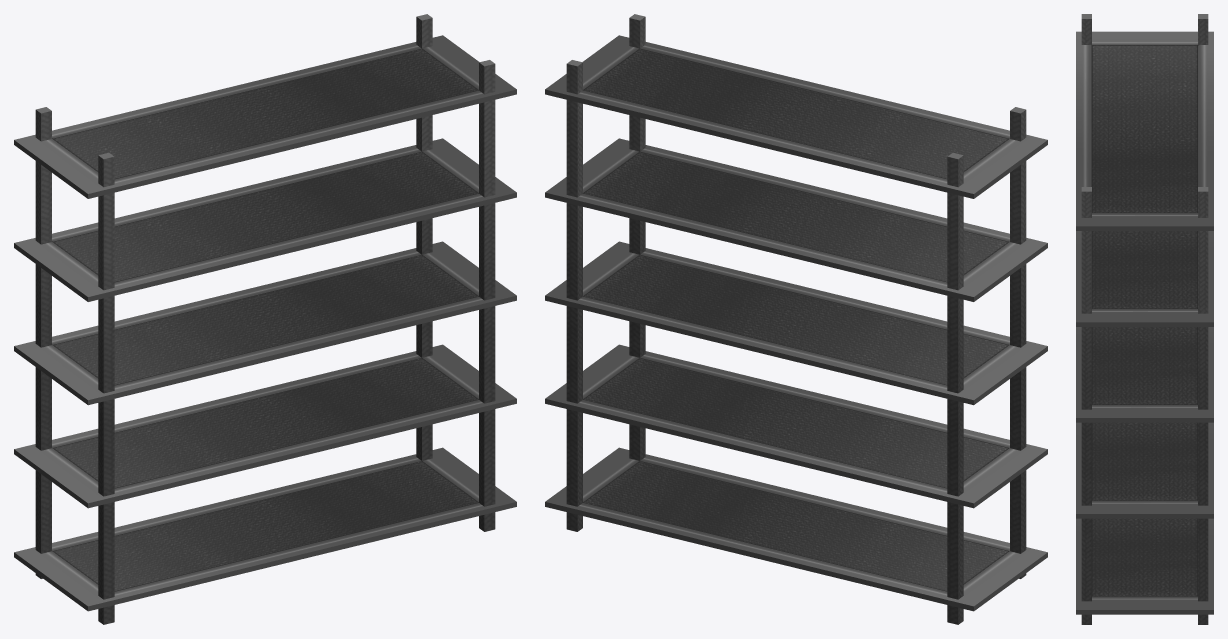
File: Shelves.FBX
3 views of the same model, side by side, from view 1: azimuth 30°, elevation 25°; view 2: azimuth 150°, elevation 25°; view 3: azimuth 270°, elevation 25° (orthographic). The views are drawn at different scales.
Visible parts, largest first — view 1: Box001; view 2: Box001; view 3: Box001.
Boxes of the visible parts, x1=… form: Box001: x1=14, y1=14, x2=516, y2=624; Box001: x1=545, y1=14, x2=1047, y2=624; Box001: x1=1076, y1=14, x2=1213, y2=624.
Size of the model in its own units: 51.2 by 53.13 by 15.31.
